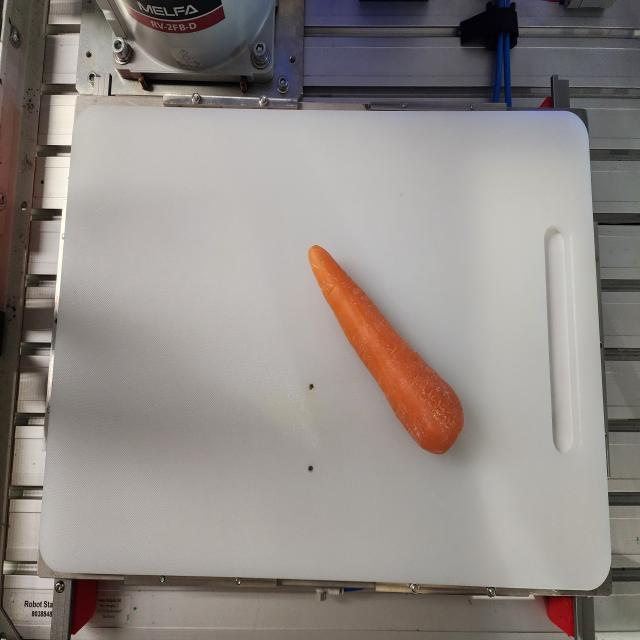carrot: (308, 243, 464, 455)
